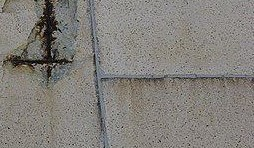Exposed reinforcement: (37, 1, 58, 79), (2, 54, 73, 66)
Spalling: (1, 1, 81, 88)
